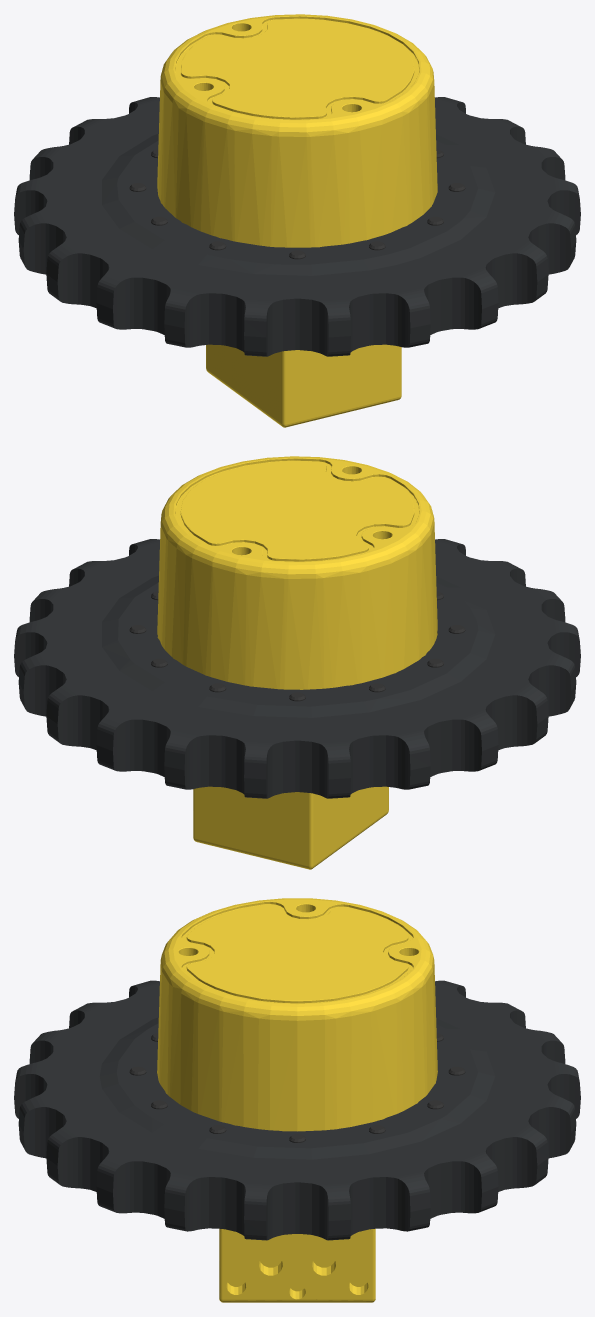
The model's file is EX70_TRAVEL_DEVICEPackDraco.glb.
3 views of the same model, one above another, from view 1: azimuth 30°, elevation 25°; view 2: azimuth 150°, elevation 25°; view 3: azimuth 270°, elevation 25° (orthographic).
Size of the model in its own units: 0.5318 by 0.3325 by 0.5333.
